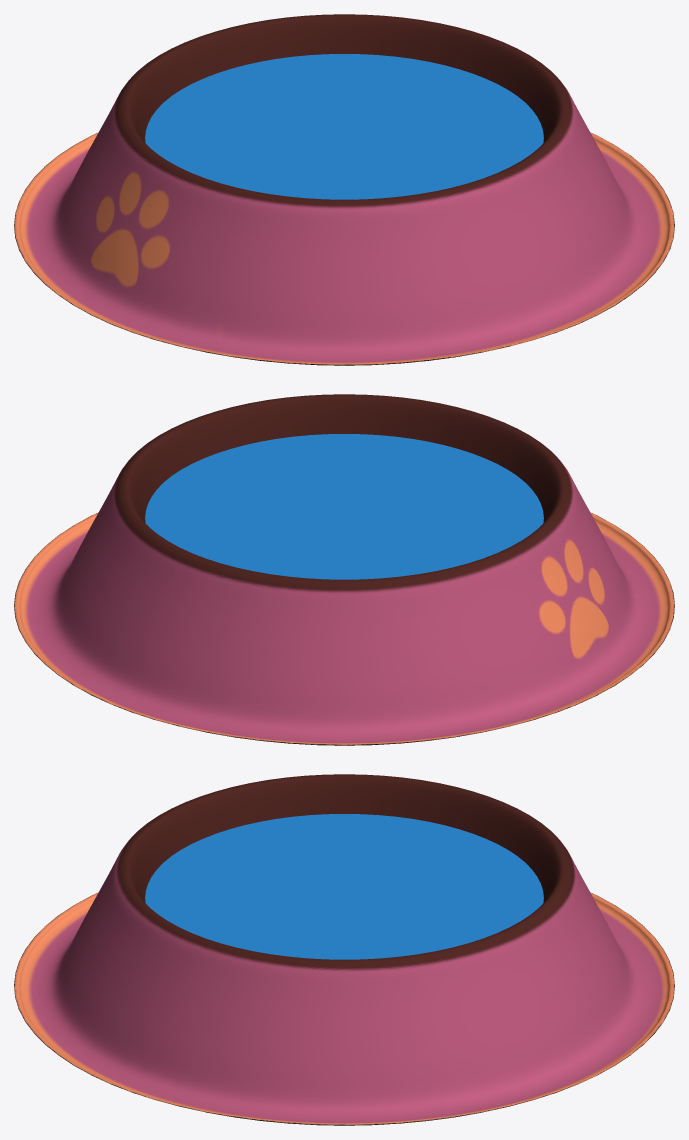
Rendered from WaterBowl.fbx.
3 renders of one model, top to bottom at view 1: azimuth 30°, elevation 25°; view 2: azimuth 150°, elevation 25°; view 3: azimuth 270°, elevation 25°, orthographic.
Visible parts, largest first — view 1: model_1, Cylinder; view 2: model_1, Cylinder; view 3: model_1, Cylinder.
Boxes of the visible parts, <box> form: model_1: <box>14,14,674,365</box>; Cylinder: <box>145,54,543,199</box>; model_1: <box>14,394,674,745</box>; Cylinder: <box>145,434,543,579</box>; model_1: <box>14,774,674,1125</box>; Cylinder: <box>145,814,543,959</box>.
Bounding box in the file's own units: 1837 × 377 × 1837.
